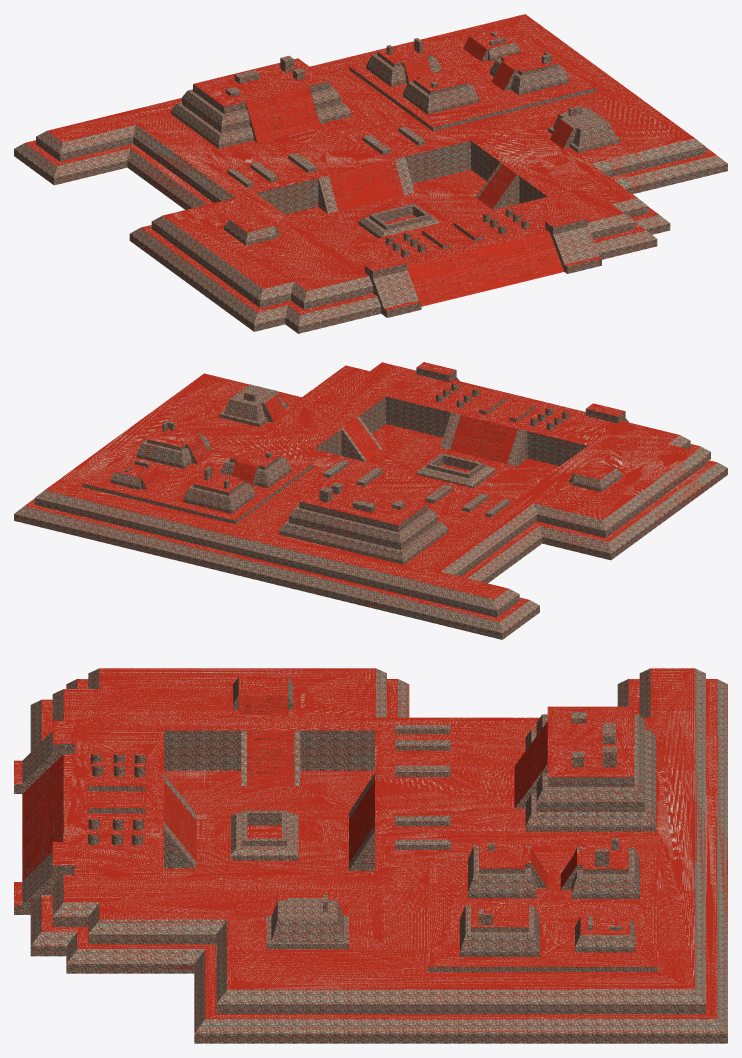
The model's file is plataformaNorte.obj.
3 views of the same model, one above another, from view 1: azimuth 30°, elevation 25°; view 2: azimuth 150°, elevation 25°; view 3: azimuth 270°, elevation 25° (orthographic). The views are drawn at different scales.
Visible parts, largest first — view 1: Mesh1 Model; view 2: Mesh1 Model; view 3: Mesh1 Model.
Boxes of the visible parts, left/top/right/bottom form: Mesh1 Model: left=14, top=14, right=727, bottom=333; Mesh1 Model: left=14, top=362, right=727, bottom=639; Mesh1 Model: left=14, top=668, right=727, bottom=1043.
Bounding box in the file's own units: 150 × 21.04 × 130.
